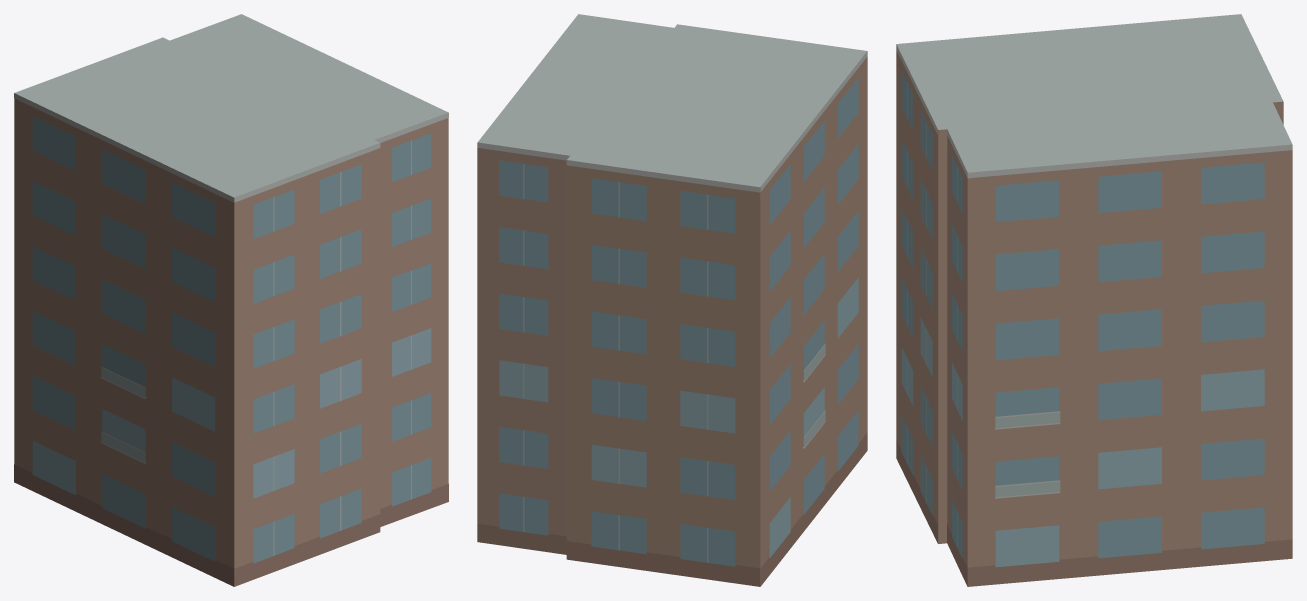
File: survey-upis-32994790.glb
3 renders of one model, left to right at view 1: azimuth 30°, elevation 25°; view 2: azimuth 150°, elevation 25°; view 3: azimuth 270°, elevation 25°, orthographic. The views are drawn at different scales.
Visible parts, largest first — view 1: survey-upis-32994790.tmp; view 2: survey-upis-32994790.tmp; view 3: survey-upis-32994790.tmp.
Part boxes in pixels (x1=…): survey-upis-32994790.tmp: x1=14, y1=14, x2=448, y2=586; survey-upis-32994790.tmp: x1=477, y1=14, x2=867, y2=586; survey-upis-32994790.tmp: x1=896, y1=14, x2=1292, y2=586.
Bounding box in the file's own units: 15.06 × 18.3 × 15.89.
